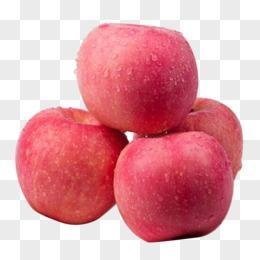apple: (76, 22, 197, 138), (14, 106, 129, 226), (115, 132, 235, 242), (176, 98, 244, 181)
